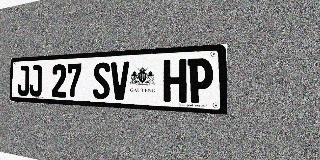2: (52, 64, 66, 98)
7: (66, 63, 82, 98)
H: (163, 59, 187, 103)
J: (29, 65, 42, 97), (17, 65, 29, 96)
P: (187, 58, 213, 104)
S: (93, 62, 110, 100)
V: (111, 61, 129, 100)
